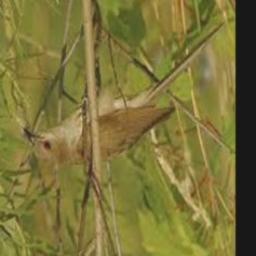Cuckoo: (24, 22, 226, 165)
